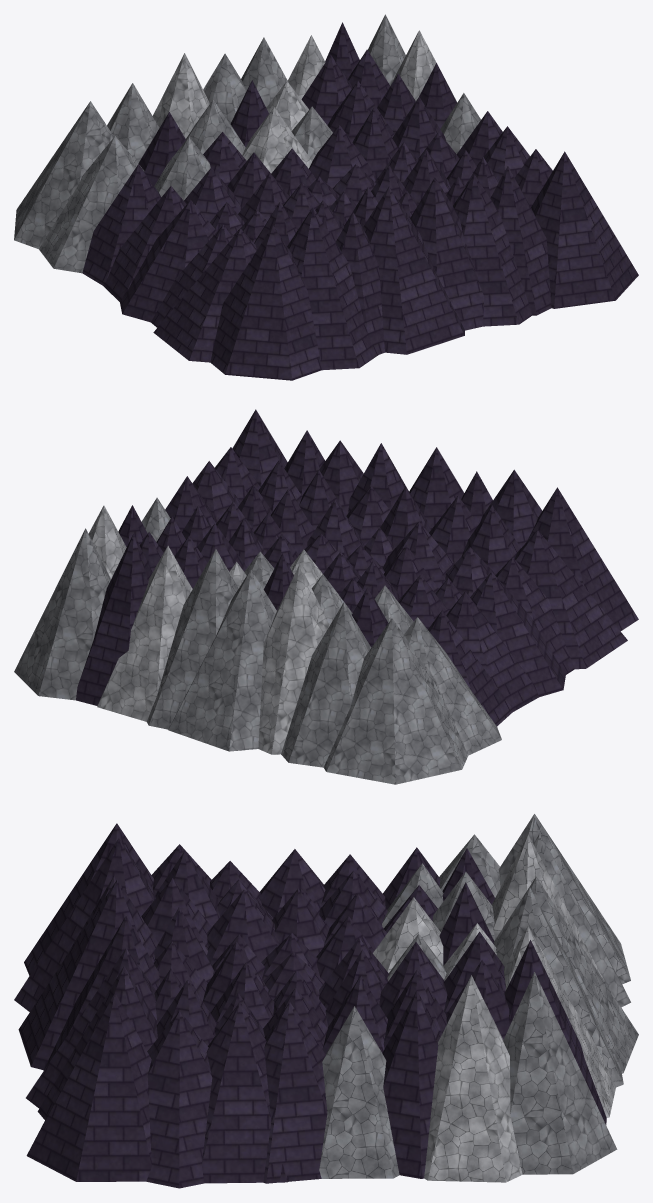
File: chunk_5_24.glb
The picture shows the model from 3 angles, top to bottom: view 1: azimuth 30°, elevation 25°; view 2: azimuth 150°, elevation 25°; view 3: azimuth 270°, elevation 25°; orthographic projection. The views are drawn at different scales.
Parts seen in each view (by area): view 1: chunk_5_24; view 2: chunk_5_24; view 3: chunk_5_24.
Boxes of the visible parts, x1,y1,x2,y2 form: chunk_5_24: (14,14,638,380); chunk_5_24: (14,409,638,784); chunk_5_24: (14,814,638,1188).
Bounding box in the file's own units: 21.33 × 7.02 × 21.27.
7 materials, 7 textured.
